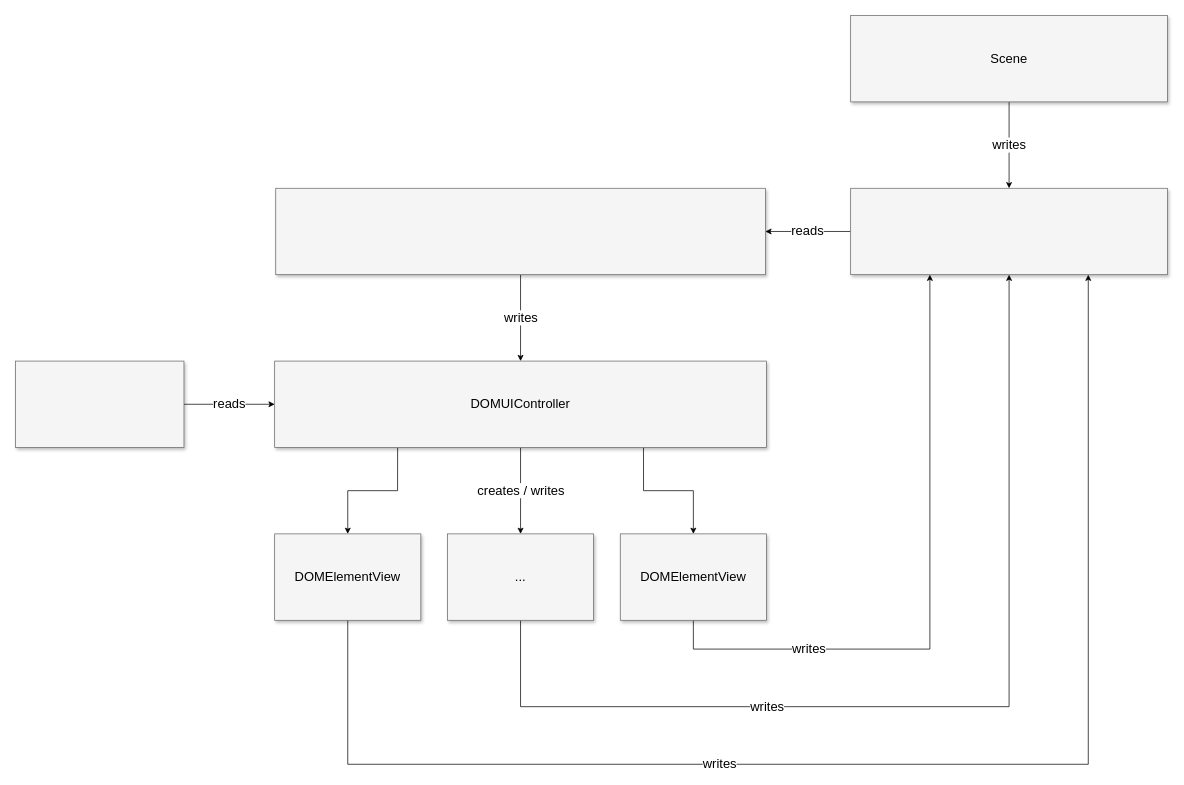
Image size: 1184x785. Some labels were removed from this diagram. Each missing label, with the centre of its shape:
"domElementsLookup" goes at pixel 100 405.
"UIState" goes at pixel 1009 232.
"UIStateController" goes at pixel 521 232.
